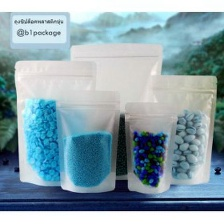snack: (64, 38, 169, 185), (9, 55, 101, 190), (146, 70, 221, 188), (51, 85, 123, 198), (121, 96, 180, 197)
